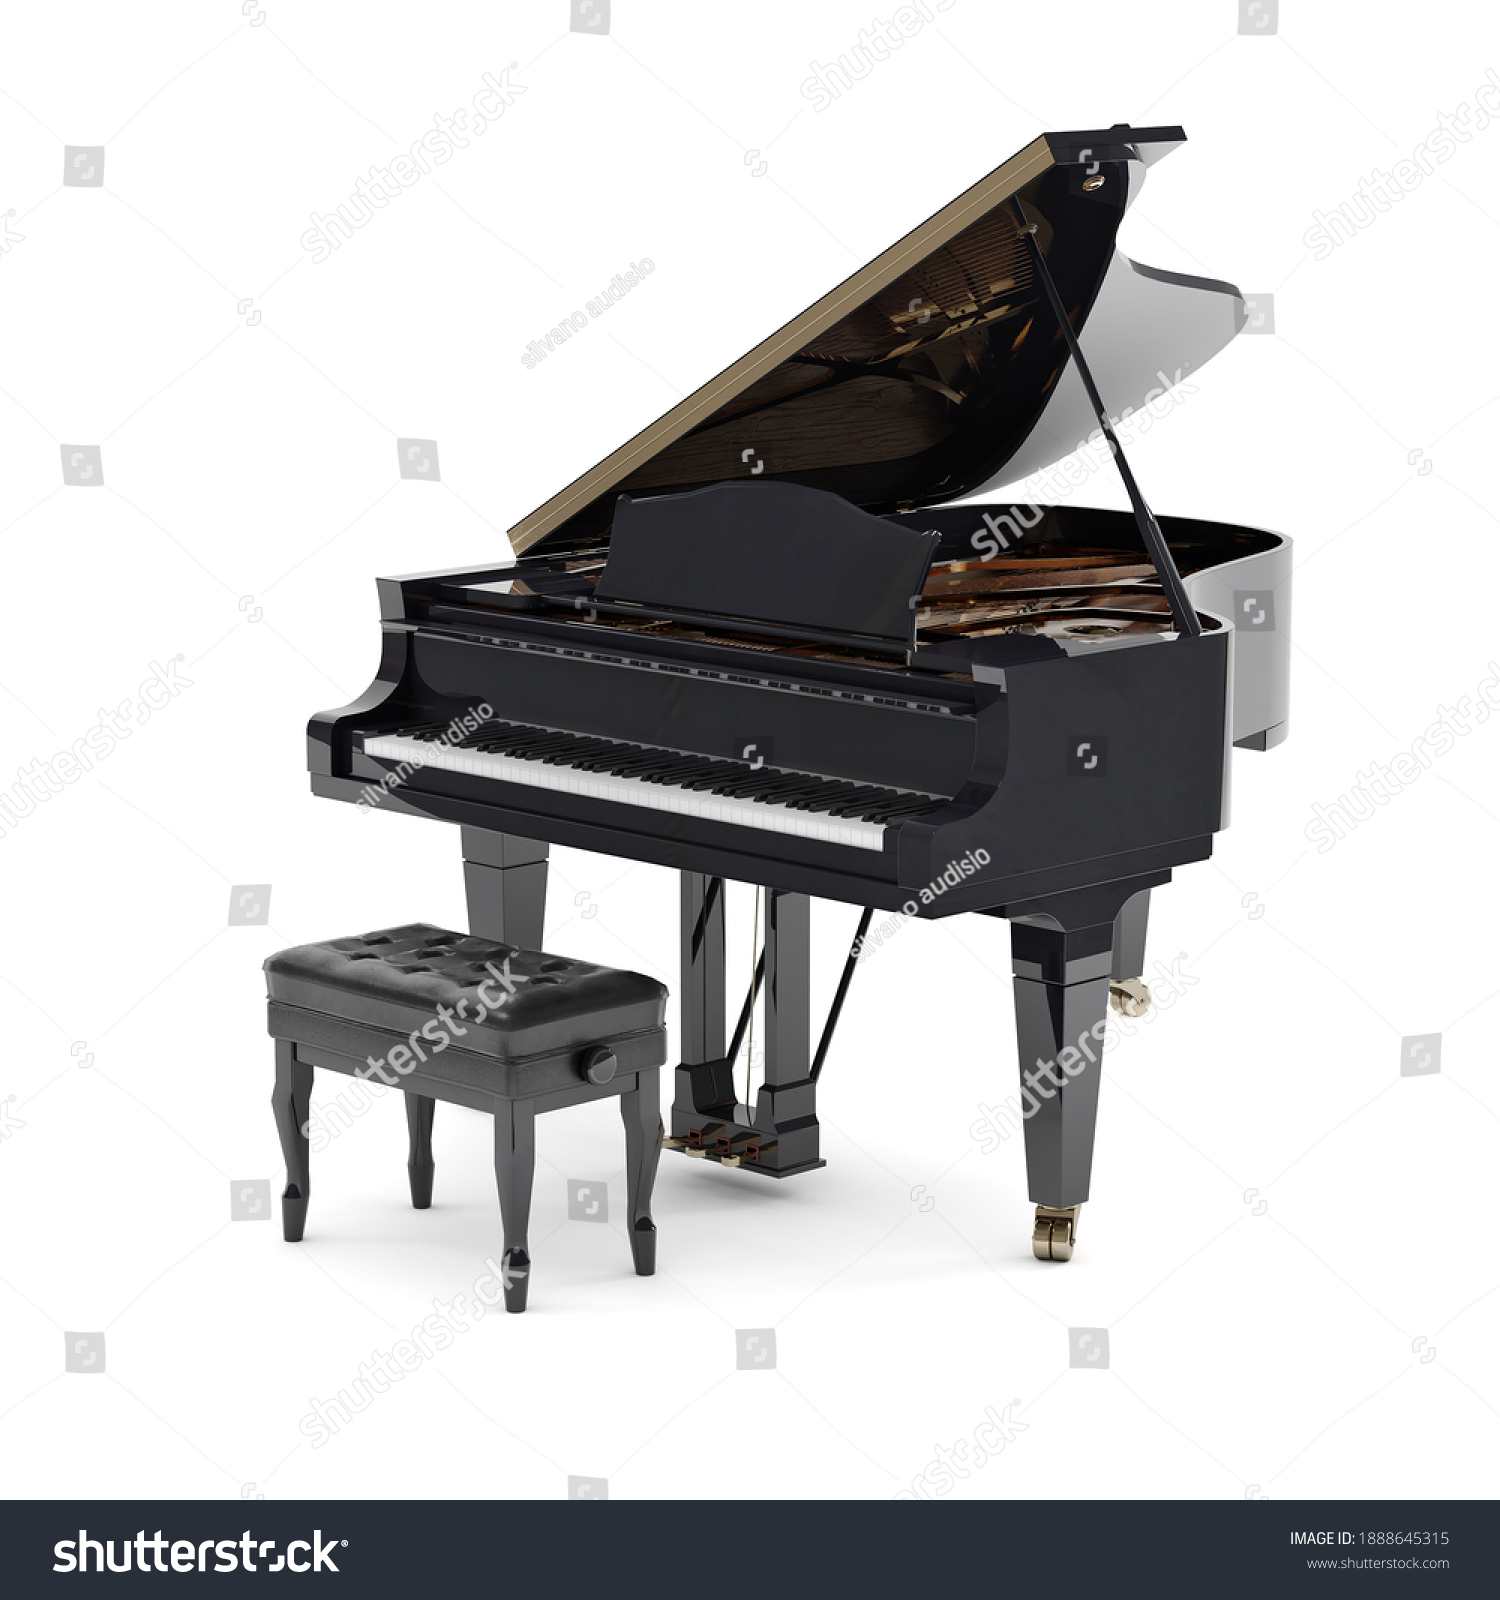Piano: (235, 94, 1446, 1229)
